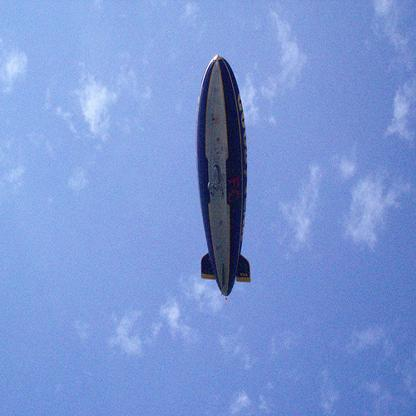Airship: (191, 53, 262, 304)
